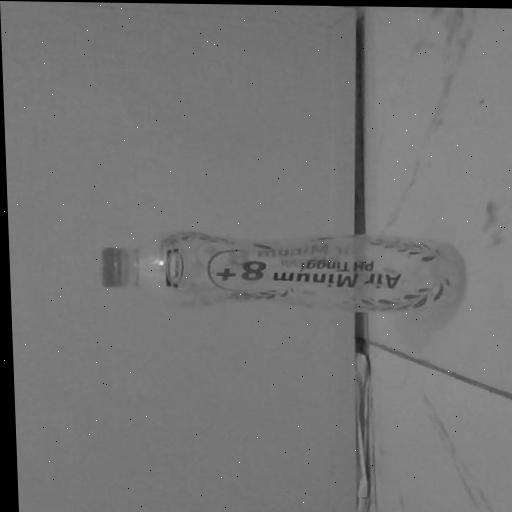ba: (59, 198, 498, 340)
